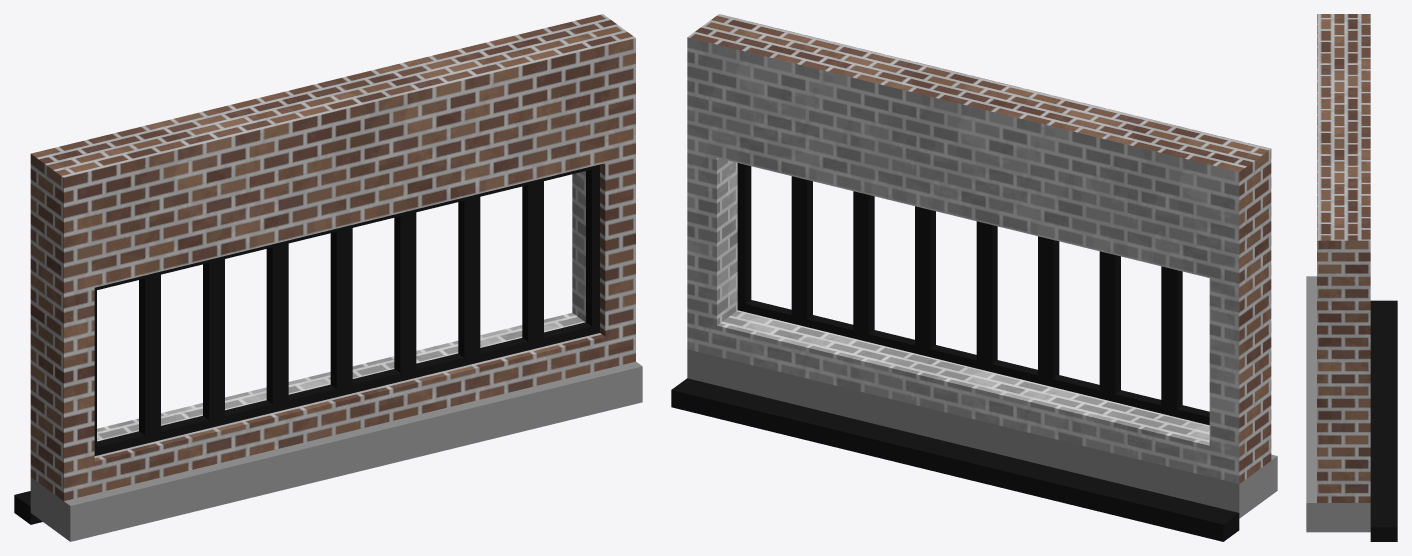
File: Straight_Wall_003.FBX
3 views of the same model, side by side, from view 1: azimuth 30°, elevation 25°; view 2: azimuth 150°, elevation 25°; view 3: azimuth 270°, elevation 25° (orthographic). The views are drawn at different scales.
Parts seen in each view (by area): view 1: Straight_Wall_003; view 2: Straight_Wall_003; view 3: Straight_Wall_003.
Boxes of the visible parts, x1,y1,x2,y2 form: Straight_Wall_003: [14, 14, 642, 541]; Straight_Wall_003: [671, 14, 1277, 541]; Straight_Wall_003: [1306, 14, 1397, 541].
Size of the model in its own units: 500 by 85 by 310.
